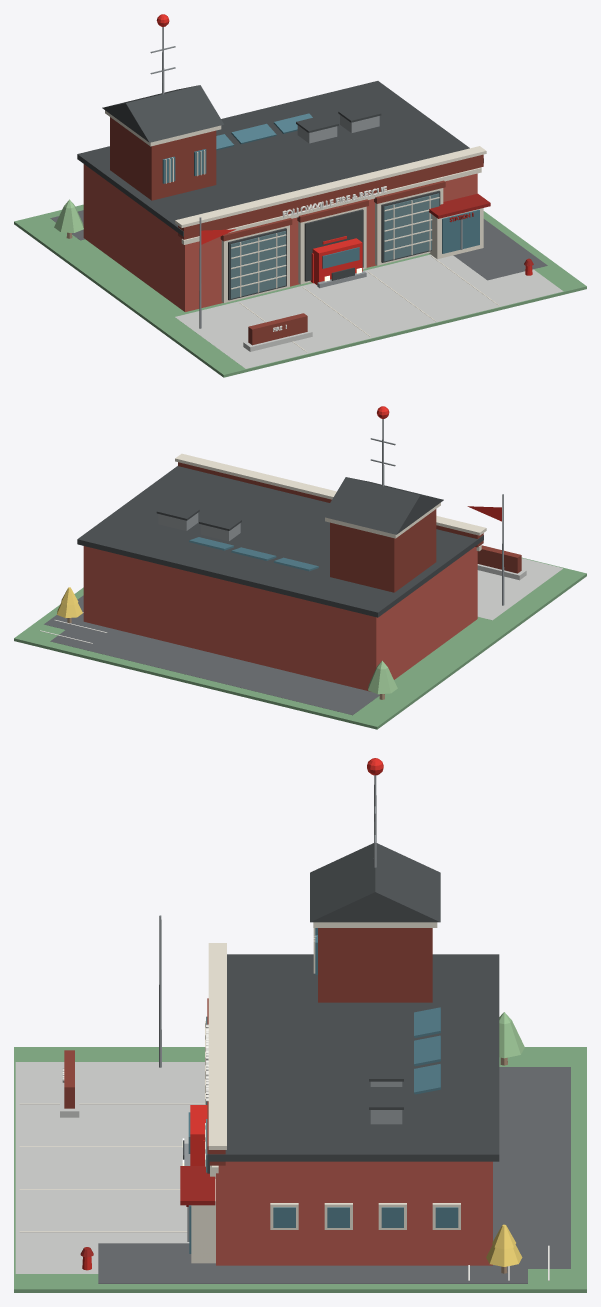
File: fire-station.glb
3 views of the same model, one above another, from view 1: azimuth 30°, elevation 25°; view 2: azimuth 150°, elevation 25°; view 3: azimuth 270°, elevation 25° (orthographic). The views are drawn at different scales.
Visible parts, largest first — view 1: fire_hall_roof.001, fire_apron.001, fire_hall.001, fire_campus_lawn.001, fire_tower.001, fire_tower_roof.001, fire_parapet.001, fire_parapet_cap.001, fire_bay_door.002, fire_bay_door.003, fire_side_drive.001, fire_bay_opening.004 (+22 smaller); view 2: fire_hall.001, fire_hall_roof.001, fire_campus_lawn.001, fire_rear_service.001, fire_tower.001, fire_tower_roof.001, fire_apron.001, fire_parapet_cap.001, fire_parapet.001, fire_sign.001, blob.057, fire_tower_cap.001 (+4 smaller); view 3: fire_hall_roof.001, fire_apron.001, fire_hall.001, fire_campus_lawn.001, fire_rear_service.001, fire_side_drive.001, fire_tower.001, fire_tower_roof.001, fire_parapet_cap.001, fire_admin_entry.001, fire_admin_canopy.001, fire_engine_center_cab.001 (+7 smaller).
Boxes of the visible parts, bbox=[...] form: fire_hall_roof.001: bbox=[77, 81, 483, 236]; fire_apron.001: bbox=[175, 254, 563, 368]; fire_hall.001: bbox=[83, 164, 477, 311]; fire_campus_lawn.001: bbox=[14, 204, 586, 377]; fire_tower.001: bbox=[110, 117, 216, 200]; fire_tower_roof.001: bbox=[102, 85, 223, 142]; fire_parapet.001: bbox=[178, 154, 483, 239]; fire_parapet_cap.001: bbox=[175, 146, 486, 227]; fire_bay_door.002: bbox=[230, 231, 285, 298]; fire_bay_door.003: bbox=[383, 193, 439, 261]; fire_side_drive.001: bbox=[453, 219, 547, 280]; fire_bay_opening.004: bbox=[304, 209, 363, 281]; fire_hall.001: bbox=[83, 546, 477, 691]; fire_hall_roof.001: bbox=[77, 466, 483, 617]; fire_campus_lawn.001: bbox=[14, 557, 586, 729]; fire_rear_service.001: bbox=[50, 619, 379, 715]; fire_tower.001: bbox=[330, 509, 436, 592]; fire_tower_roof.001: bbox=[322, 477, 443, 534]; fire_apron.001: bbox=[477, 558, 562, 620]; fire_parapet_cap.001: bbox=[175, 453, 486, 535]; fire_parapet.001: bbox=[178, 462, 483, 547]; fire_sign.001: bbox=[477, 545, 521, 573]; blob.057: bbox=[368, 666, 397, 694]; fire_tower_cap.001: bbox=[325, 502, 440, 538]; fire_hall_roof.001: bbox=[209, 954, 499, 1161]; fire_apron.001: bbox=[15, 1062, 204, 1273]; fire_hall.001: bbox=[216, 1161, 492, 1265]; fire_campus_lawn.001: bbox=[14, 1047, 586, 1292]; fire_rear_service.001: bbox=[488, 1067, 570, 1268]; fire_side_drive.001: bbox=[98, 1243, 527, 1283]; fire_tower.001: bbox=[318, 928, 432, 1002]; fire_tower_roof.001: bbox=[310, 843, 440, 922]; fire_parapet_cap.001: bbox=[208, 943, 226, 1149]; fire_admin_entry.001: bbox=[191, 1179, 215, 1263]; fire_admin_canopy.001: bbox=[180, 1166, 215, 1205]; fire_engine_center_cab.001: bbox=[190, 1105, 206, 1165].
Bounding box in the file's own units: 36 × 23.87 × 36.
